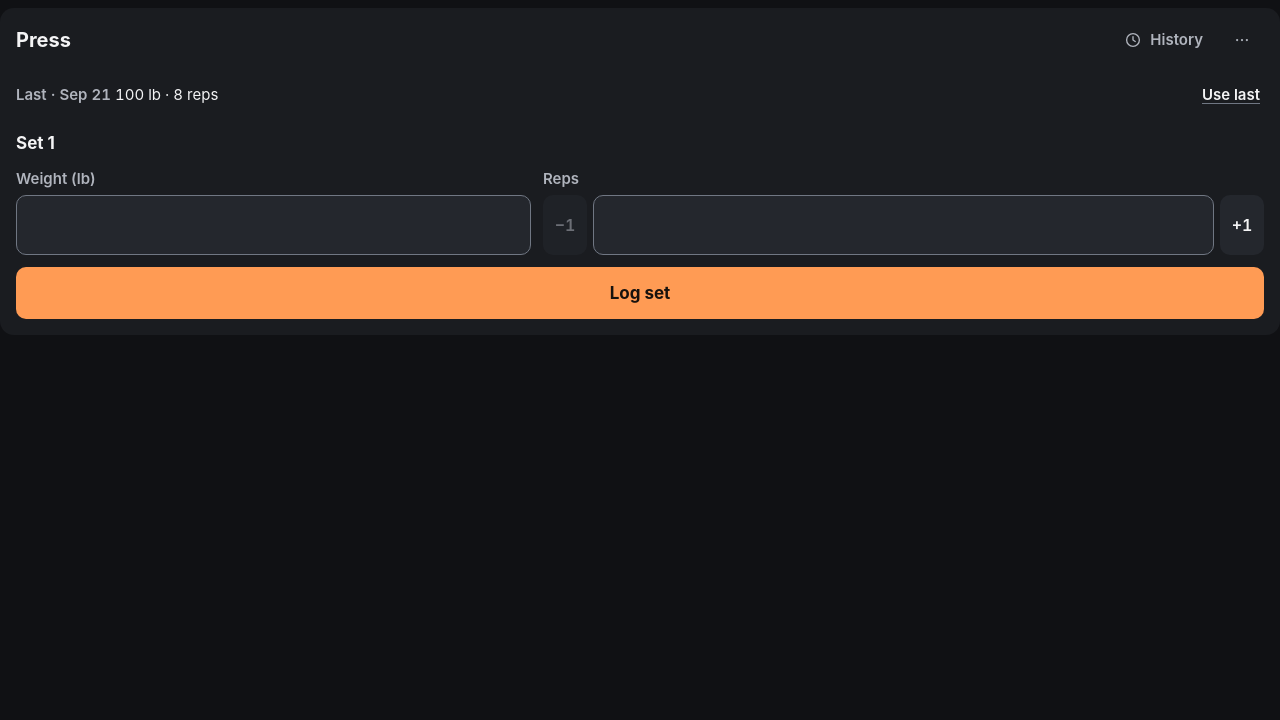
Test: WorkoutExercise saving › keeps guidance and management in the exercise header menu
Expected: the button with aria-label "Open history for Press" is shown, [1111,18,1216,62]
Click the button named "Exercise options for Press". click: (1242, 40)
box: [1220,18,1264,62]
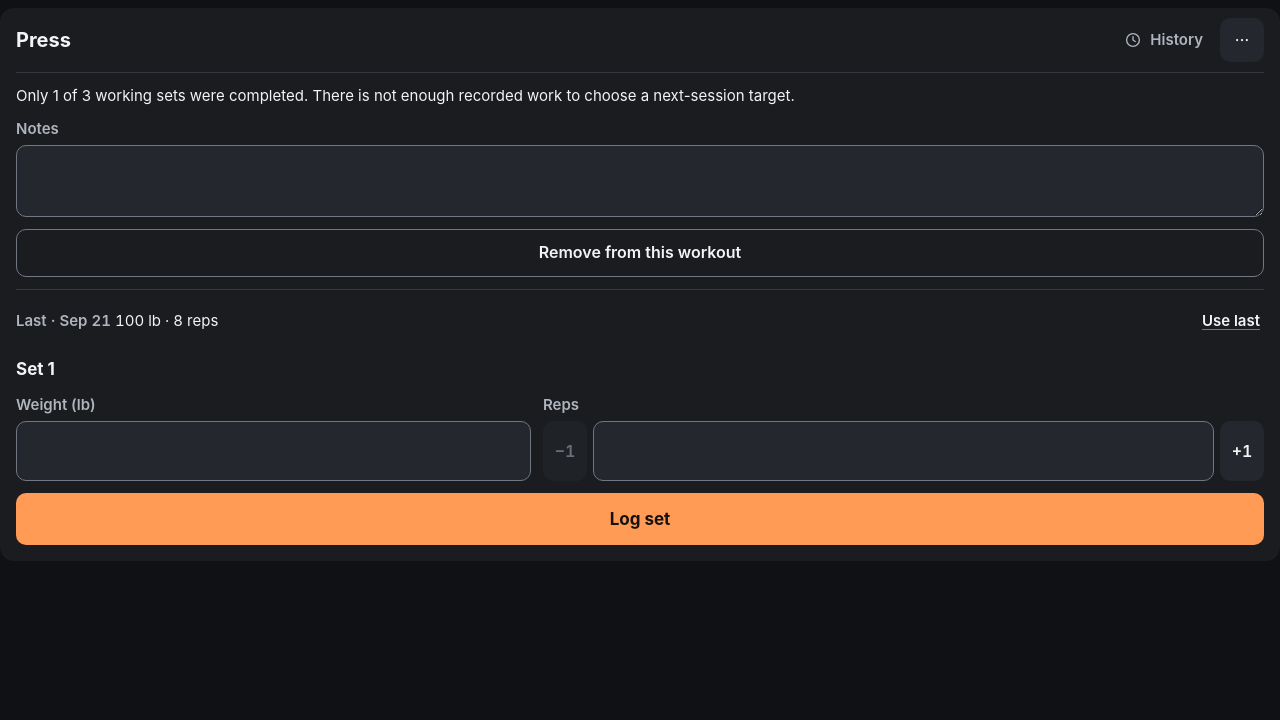
Result: the text box labelled "Notes" is shown at [16,145,1264,217]
Result: the button "Remove from this workout" is shown at [16,229,1264,277]
Click the button named "Exercise options for Press". click: (1242, 40)
box: [1220,18,1264,62]
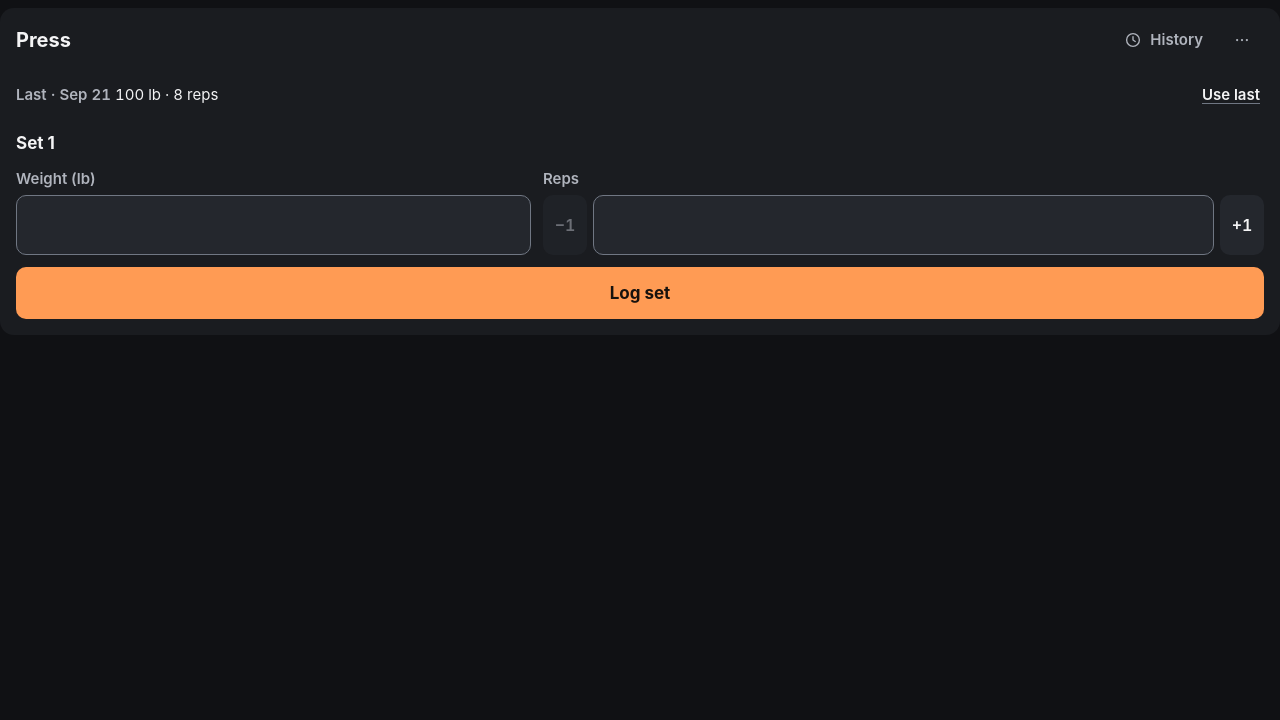
Result: the text box is gone
Result: the text with class "suggestion" is gone
